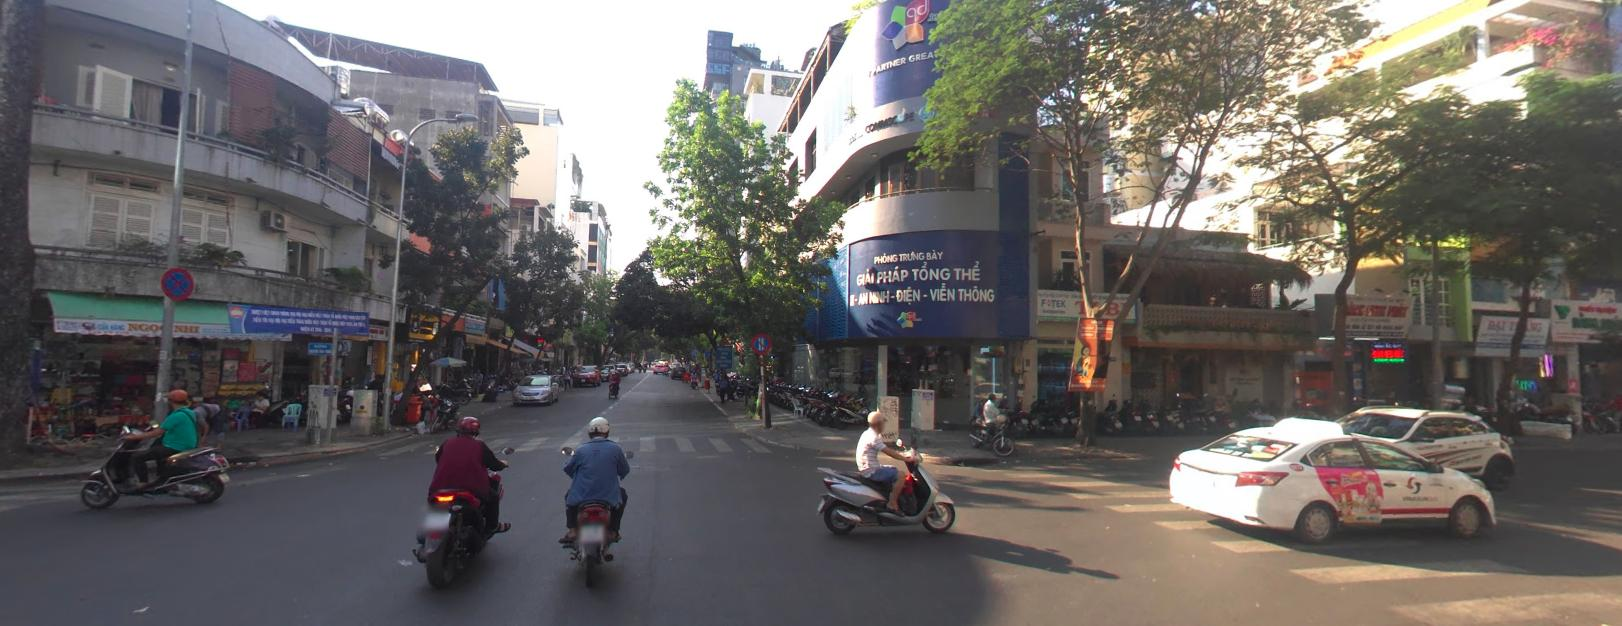Cam dung va do: (160, 265, 193, 298), (751, 331, 771, 352)
